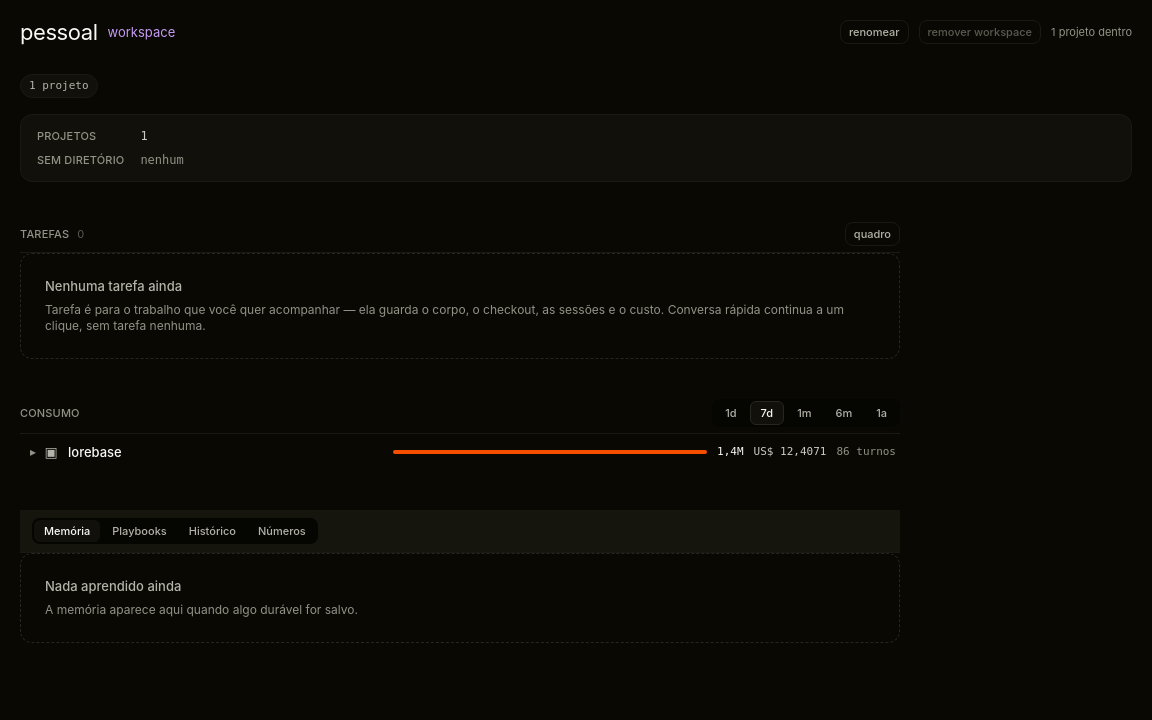
a divisão por conta › com um agente e duas contas, o agente abre e cada conta é uma linha embaixo dele
This screenshot has width=1152, height=720.
What coordinates should you click on to do the following:
click the button named "abrir a divisão por agente"
I would click on:
 (30, 452)
Its box is x1=24 y1=442 x2=36 y2=462.
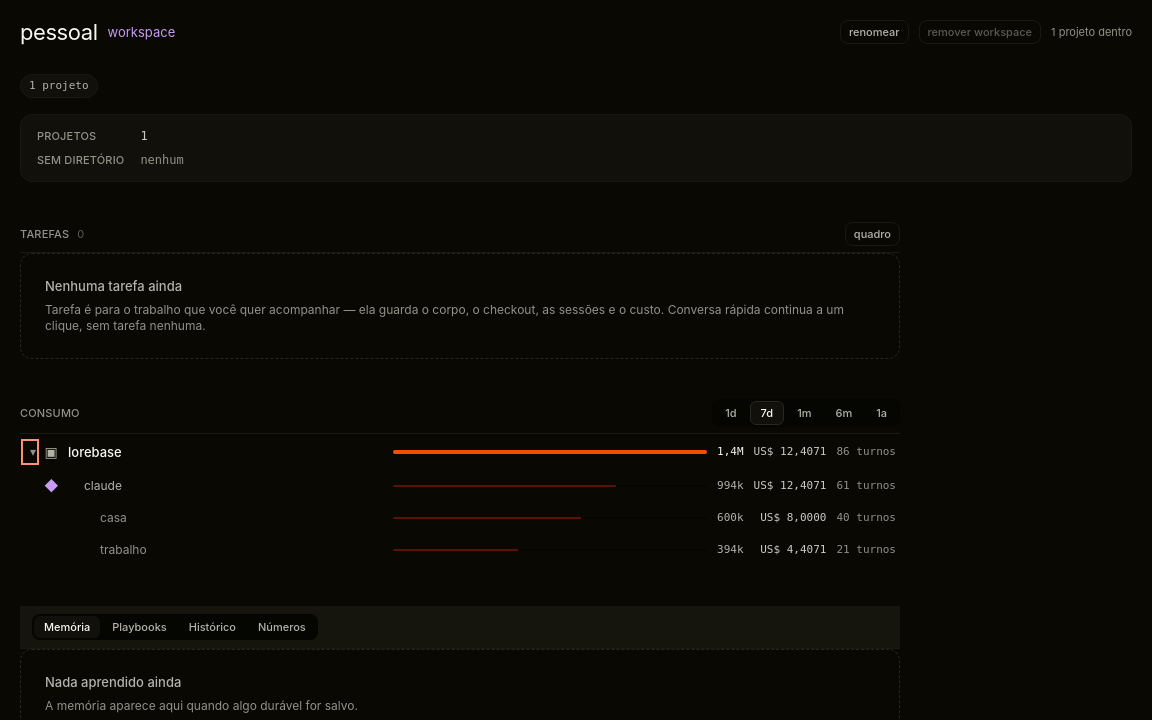
Now the text "trabalho" is shown, box x1=100 y1=542 x2=147 y2=557
Now the text "600k" is shown, box x1=717 y1=510 x2=744 y2=526
Now the text "394k" is shown, box x1=717 y1=542 x2=744 y2=558
